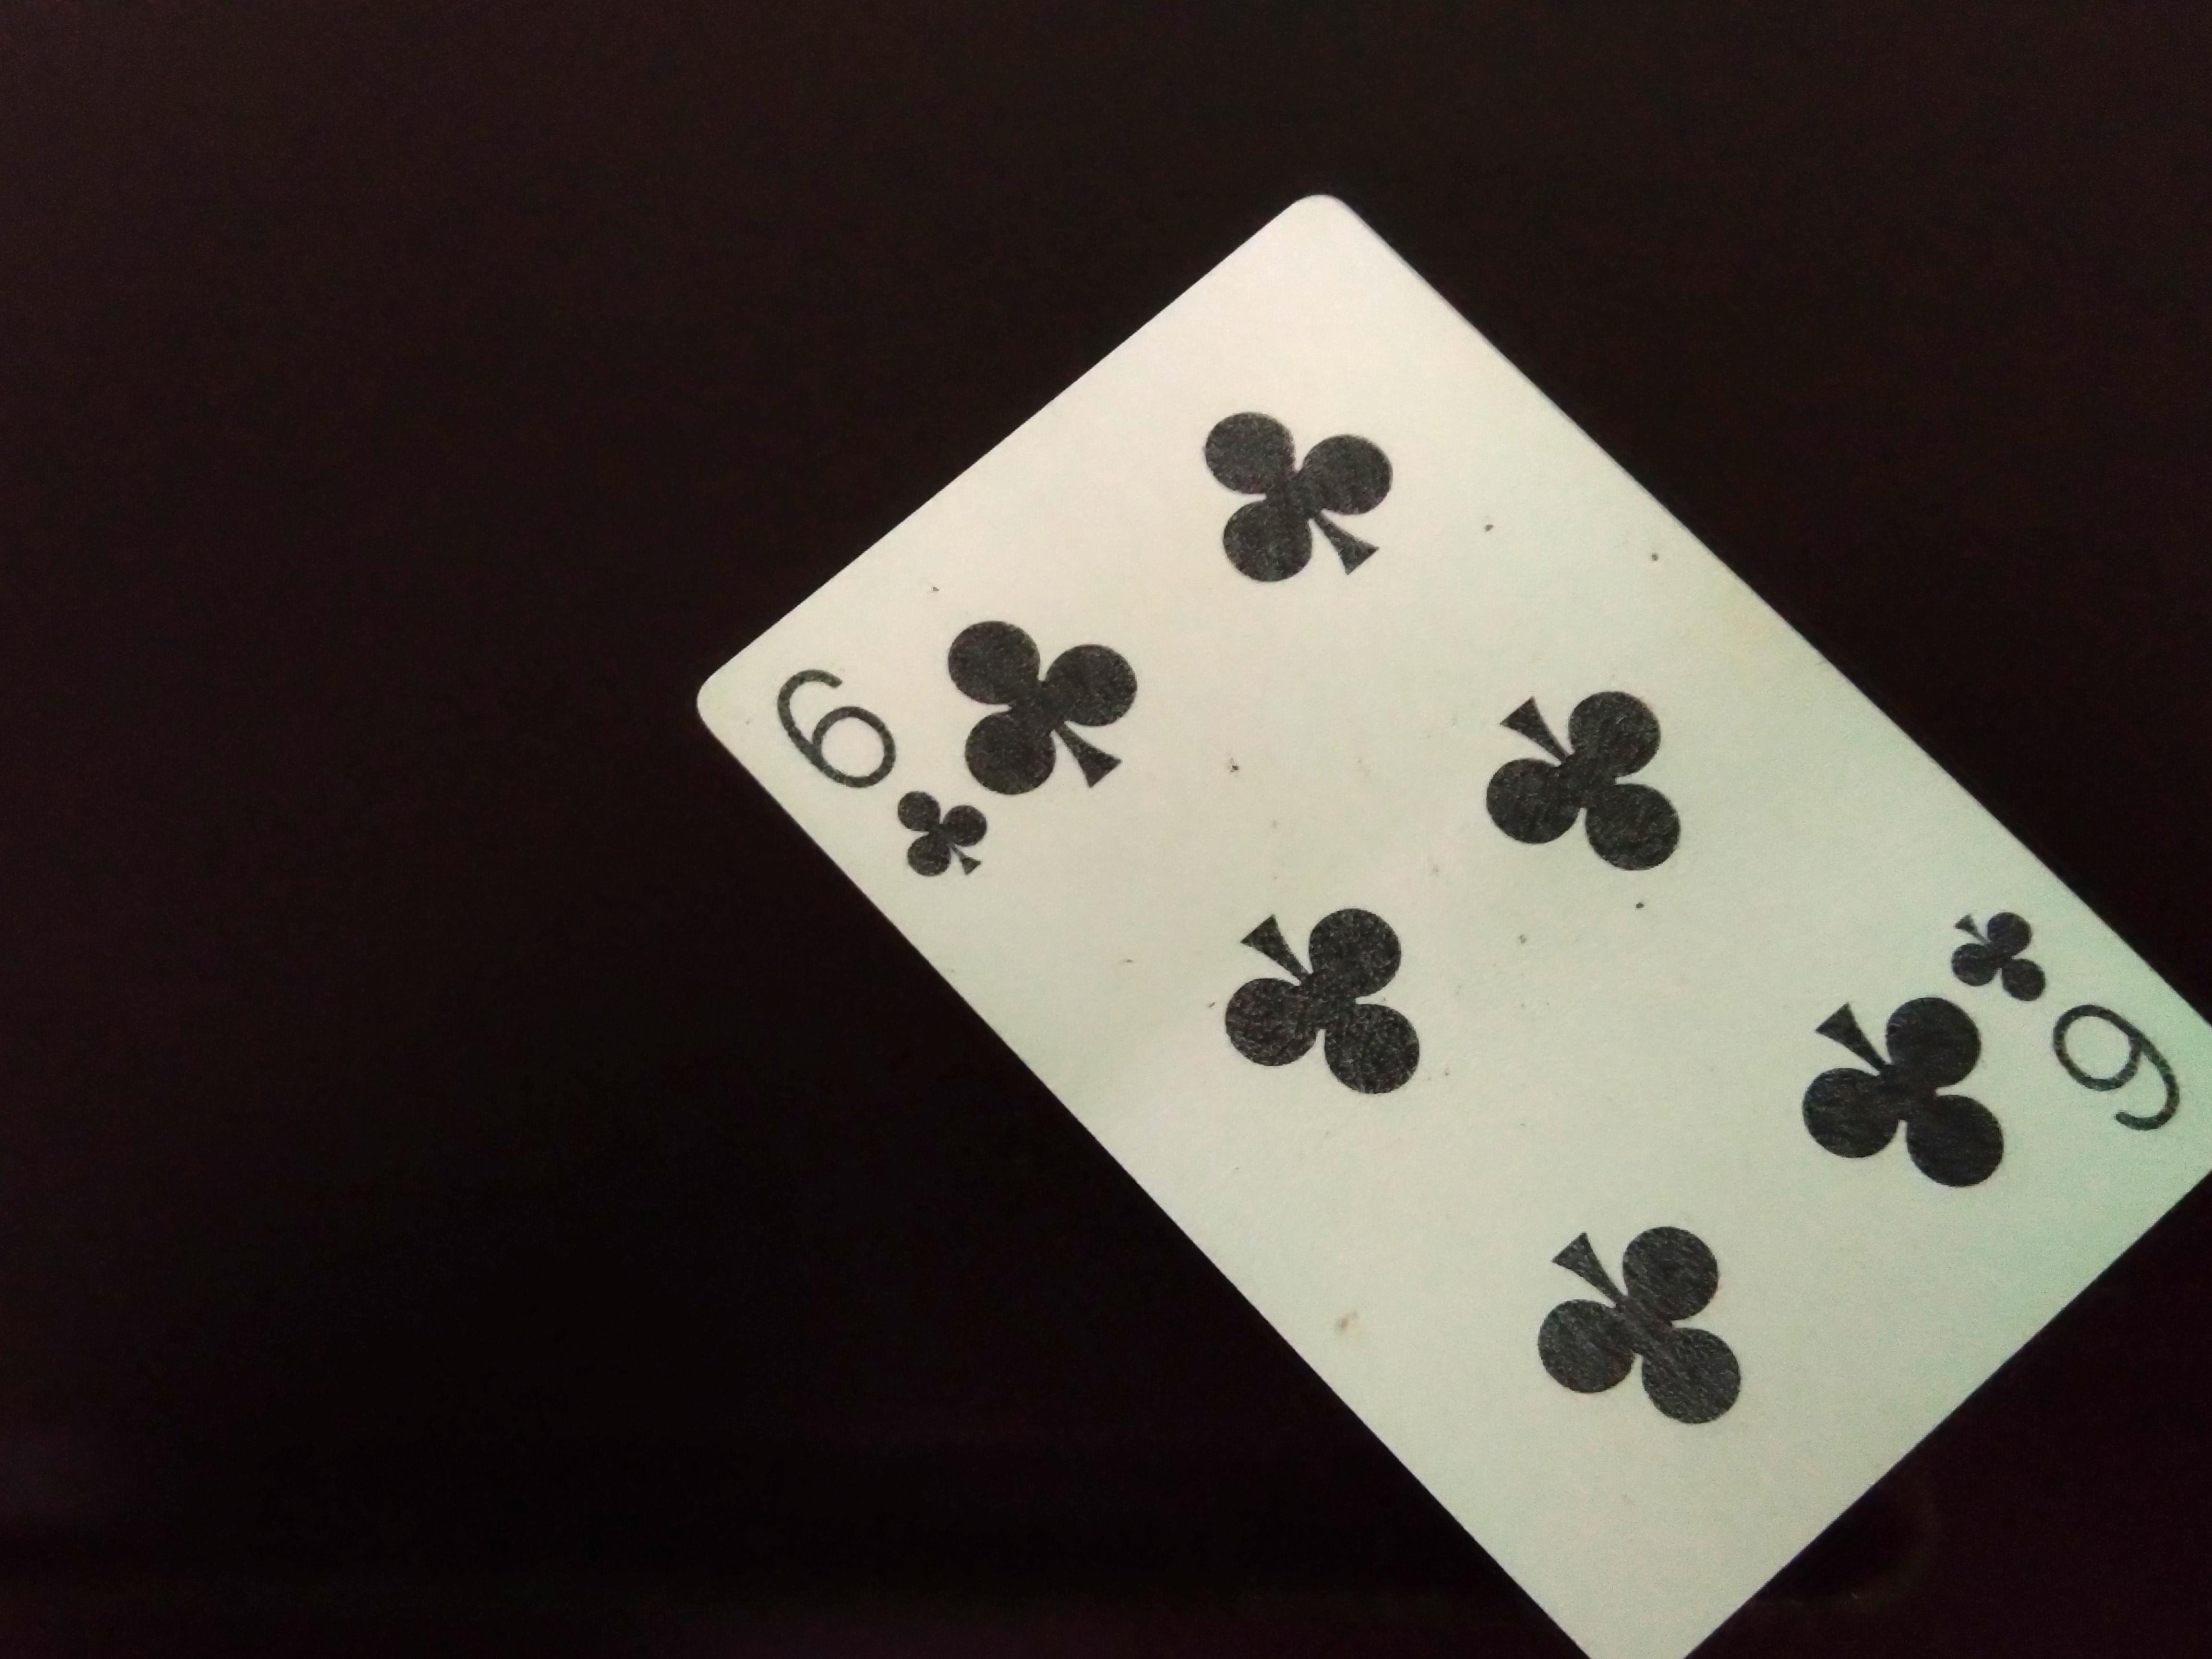6C: (780, 657, 988, 878)
